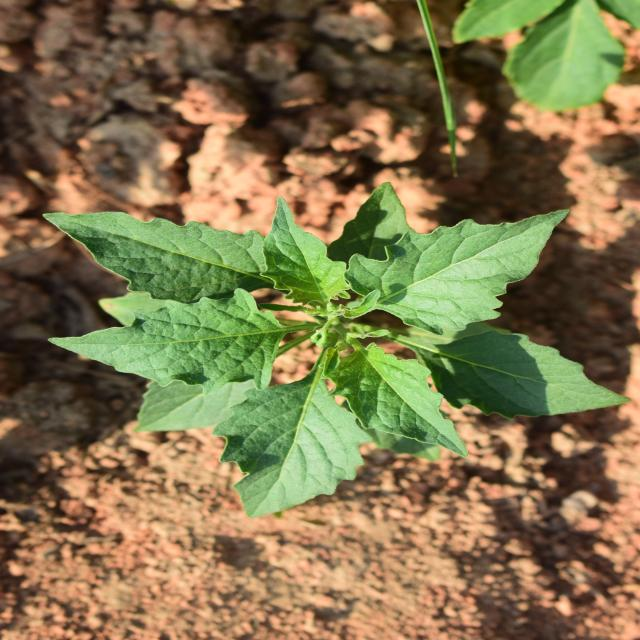Black_nightshade: (132, 68, 462, 589)
